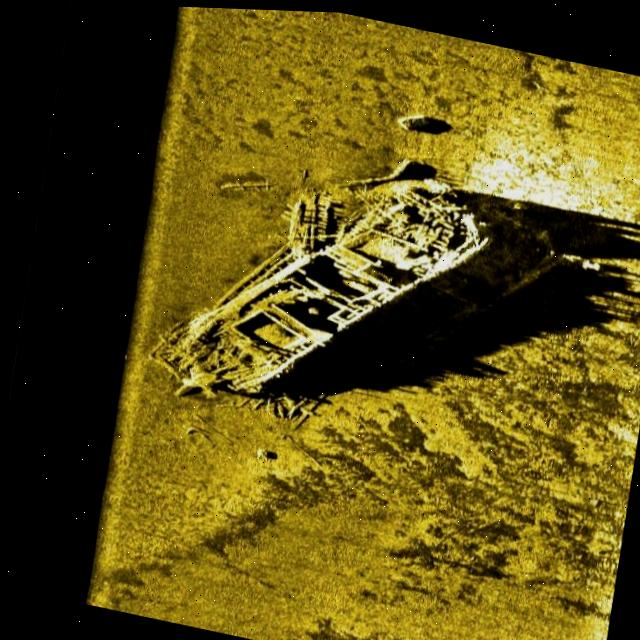shipwreck: (132, 110, 572, 461)
